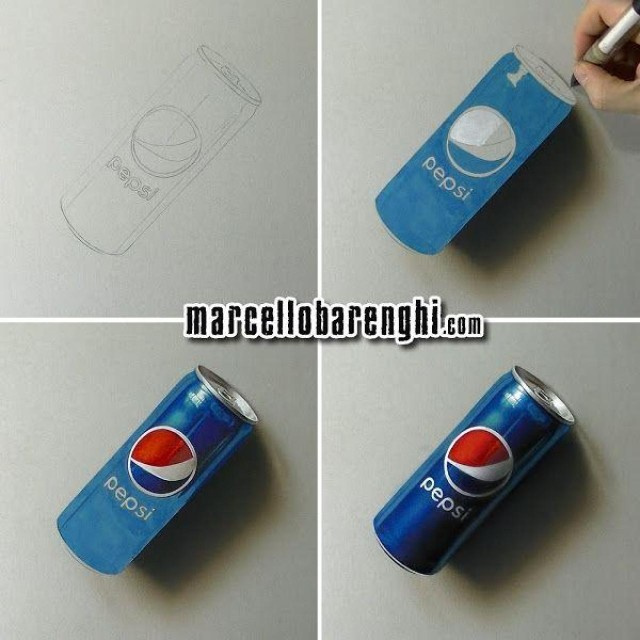pepsi: (445, 424, 521, 499), (128, 424, 204, 497)
